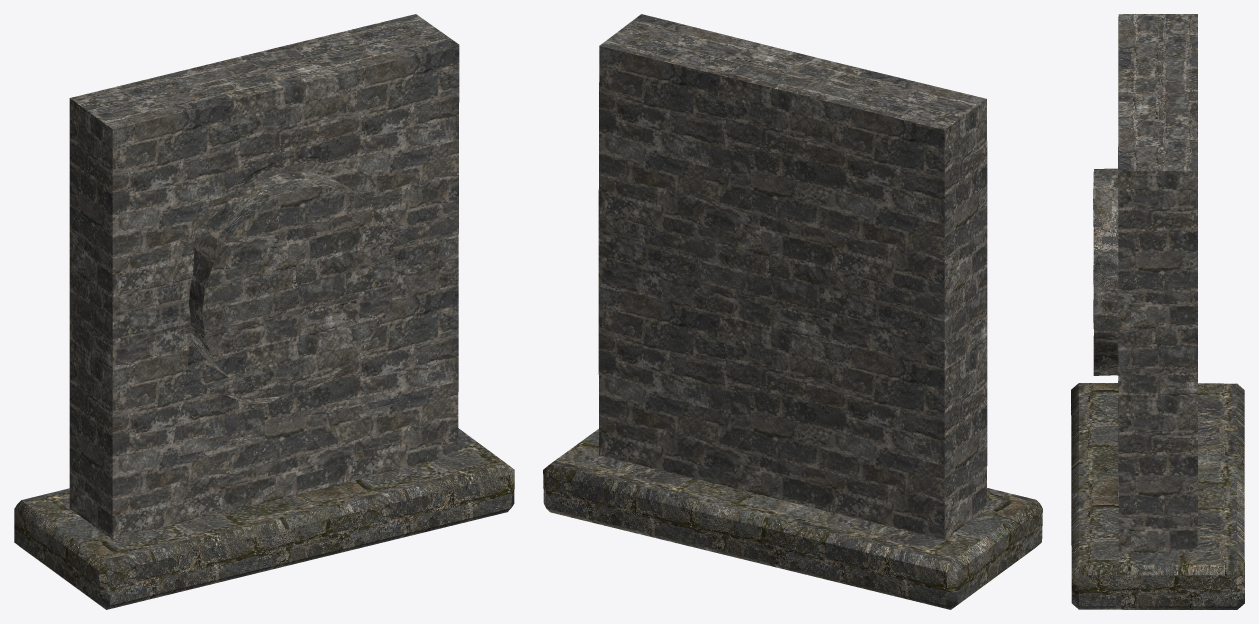
File: cult-symbol-stone-v01.glb
The picture shows the model from 3 angles, left to right: view 1: azimuth 30°, elevation 25°; view 2: azimuth 150°, elevation 25°; view 3: azimuth 270°, elevation 25°; orthographic projection. The views are drawn at different scales.
Parts seen in each view (by area): view 1: cult-symbol-stone; view 2: cult-symbol-stone; view 3: cult-symbol-stone.
Boxes of the visible parts, x1,y1,x2,y2 form: cult-symbol-stone: (14,14,514,609); cult-symbol-stone: (543,14,1042,609); cult-symbol-stone: (1071,14,1244,609).
Bounding box in the file's own units: 1.8 × 1.9 × 0.7018.
2 materials, 2 textured.
